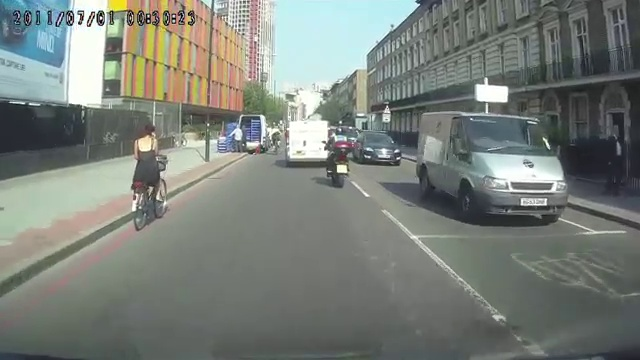cyclist_back: (132, 125, 169, 226), (322, 125, 351, 188)
